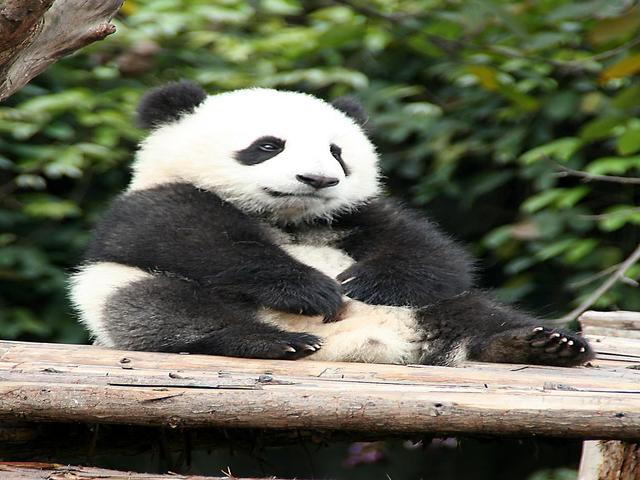panda: (53, 56, 533, 357)
